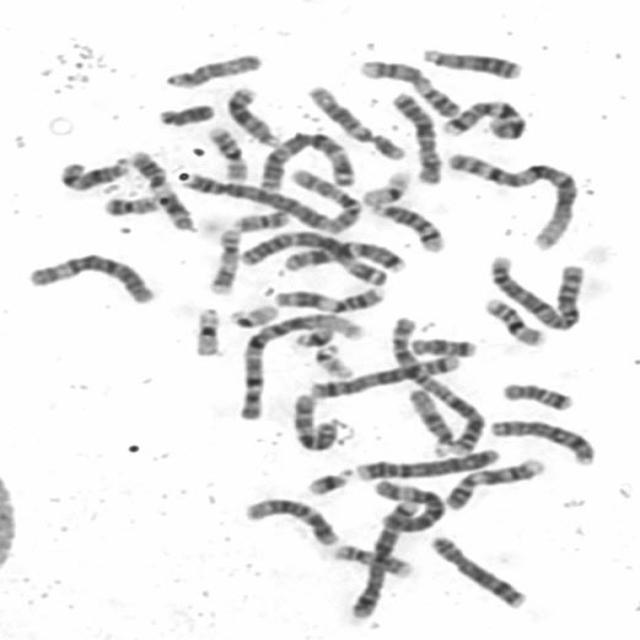A1: (236, 309, 367, 422), (442, 146, 581, 252)
A2: (386, 313, 489, 457), (483, 248, 587, 333)
A3: (238, 226, 394, 286), (252, 128, 359, 196)
B4: (180, 172, 333, 232), (349, 443, 502, 482)
B5: (347, 496, 420, 620), (305, 352, 463, 399)
C10: (288, 167, 364, 237), (286, 390, 340, 452)
C11: (125, 146, 199, 233), (268, 282, 387, 314)
C12: (301, 80, 408, 162), (238, 493, 343, 546)
C6: (24, 250, 158, 306), (371, 476, 446, 534)
C7: (282, 242, 408, 275), (437, 96, 527, 142)
C8: (425, 530, 531, 611), (486, 414, 600, 467)
C9: (352, 56, 460, 119), (441, 454, 547, 512)
D13: (418, 43, 526, 82), (222, 83, 284, 149)
D14: (367, 200, 447, 253), (55, 153, 134, 193)
D15: (161, 48, 265, 89), (403, 384, 457, 456)
E16: (479, 292, 549, 348), (204, 123, 251, 182)
E17: (327, 540, 414, 580), (204, 224, 243, 297)
E18: (496, 376, 576, 413), (406, 334, 476, 358)
F19: (358, 167, 412, 206), (188, 303, 225, 358)
F20: (230, 205, 292, 232), (100, 191, 162, 218)
G21: (300, 462, 356, 496), (290, 324, 338, 348)
G22: (311, 341, 356, 380), (225, 300, 281, 330)
X: (387, 88, 445, 187)
Y: (152, 100, 218, 128)
